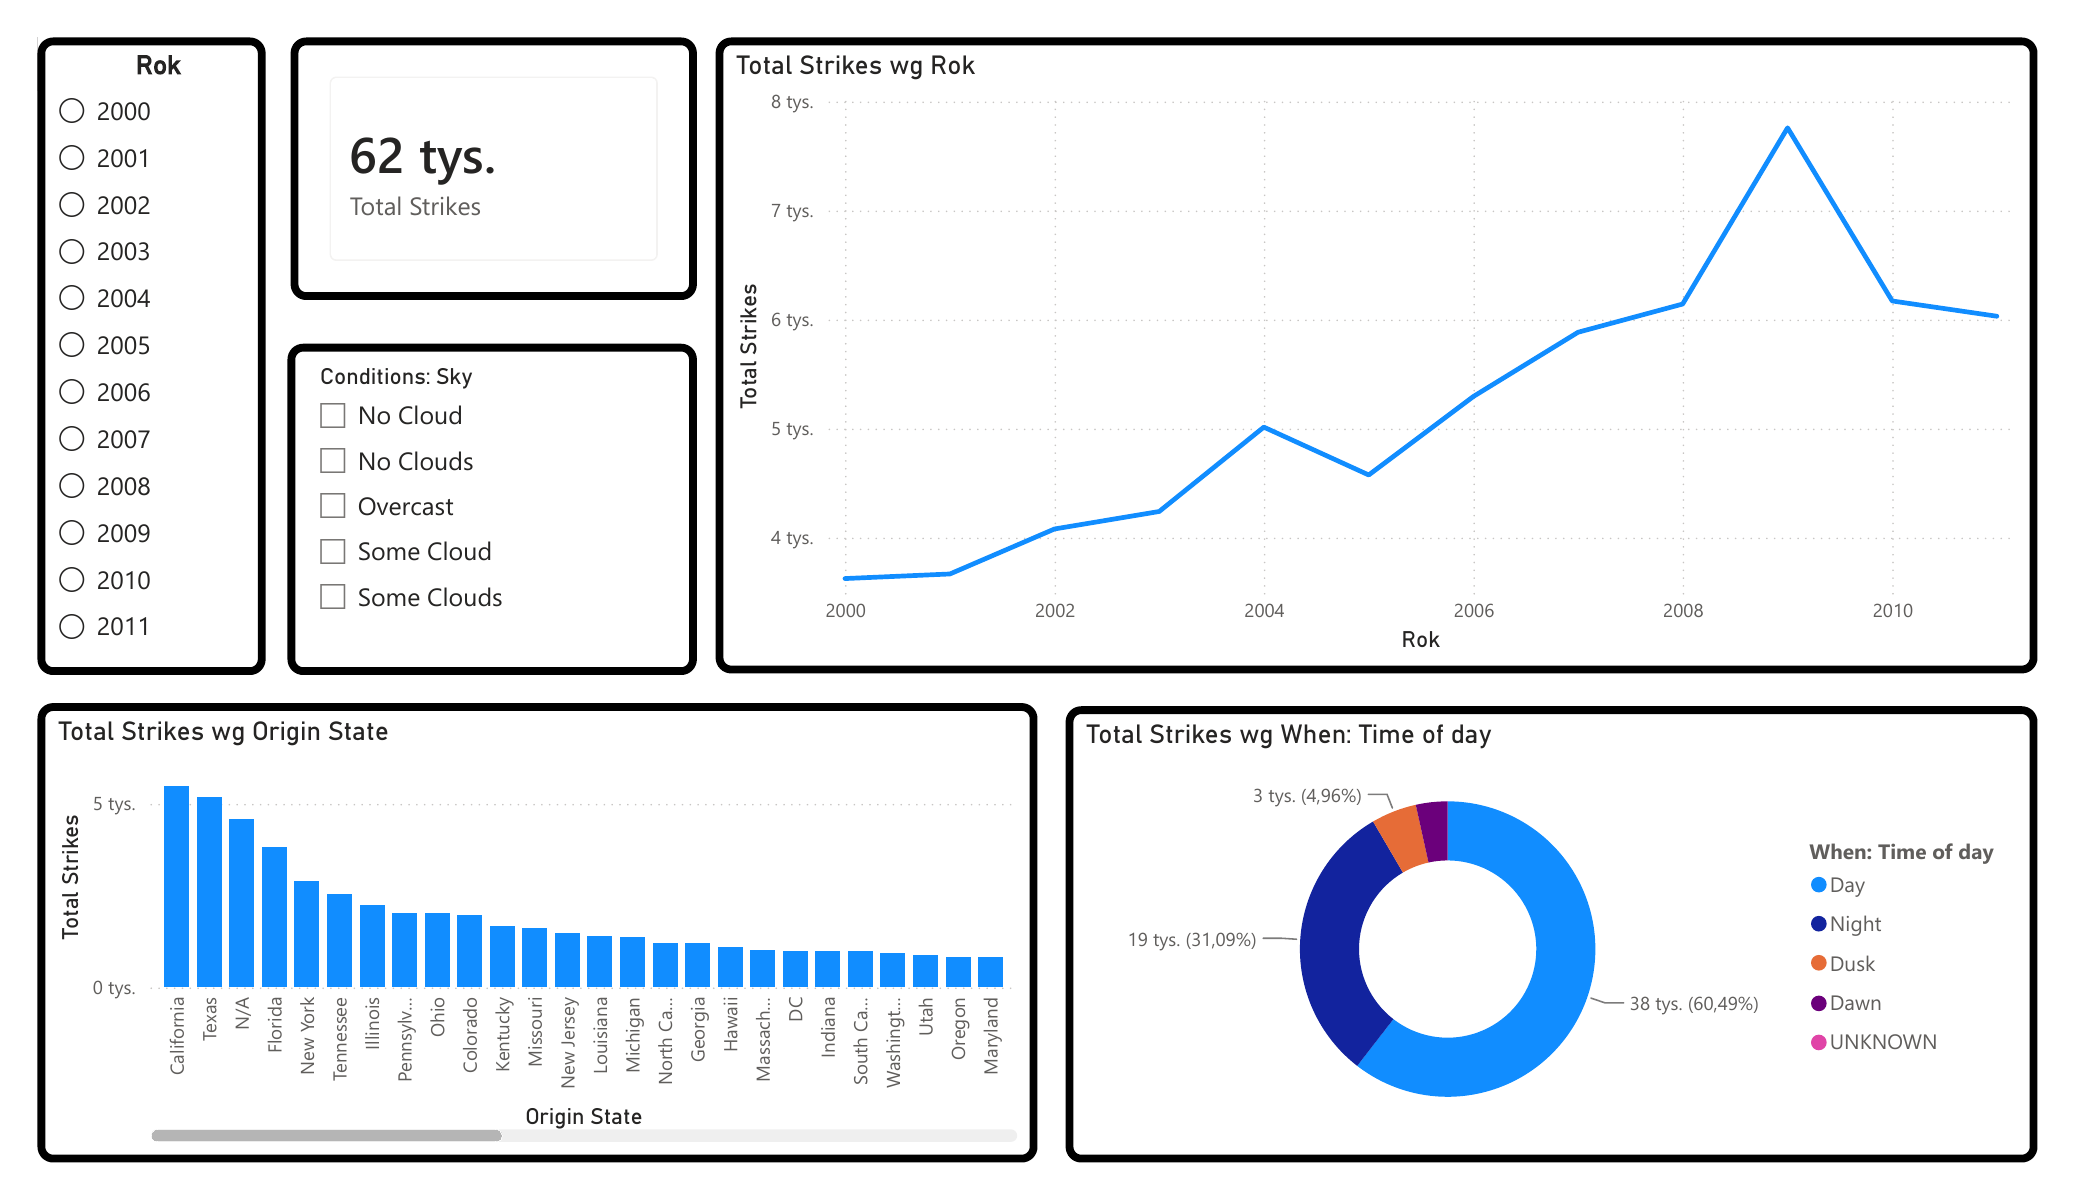

The page's visual inventory and layout, read from the dashboard file:
{"tool":"powerbi","page":{"name":"Przegląd operacyjny","canvas":[1280,720],"ordinal":0},"visuals":[{"type":"cardVisual","fields":{"Data":["FactStrikes.Total Strikes"]},"box":[162,0,260,168],"z":0},{"type":"lineChart","fields":{"Category":["DimDate.Date.Odmiana.Hierarchia dat.Rok","DimDate.Date.Odmiana.Hierarchia dat.Kwartał","DimDate.Date.Odmiana.Hierarchia dat.Miesiąc","DimDate.Date.Odmiana.Hierarchia dat.Dzień"],"Y":["FactStrikes.Total Strikes"]},"box":[434.3,0,845.7,407.1],"z":1000},{"type":"columnChart","fields":{"Category":["DimGeography.Origin State"],"Y":["FactStrikes.Total Strikes"]},"box":[0,426,640,294],"z":2000},{"type":"listSlicer","fields":{"Values":["DimDate.Rok"]},"box":[0,0,145.9,407.5],"z":3000},{"type":"donutChart","fields":{"Category":["FactStrikes.When: Time of day"],"Y":["FactStrikes.Total Strikes"]},"box":[658,428,622,292],"z":4000},{"type":"slicer","fields":{"Values":["FactStrikes.Conditions: Sky"]},"box":[160,196,262,212],"z":5000}]}

Visuals, with their boxes in screenshot pixels (x1, y1, x2, y2):
cardVisual - FactStrikes.Total Strikes: 282,38,683,297
lineChart - DimDate.Date.Odmiana.Hierarchia dat.Rok x DimDate.Date.Odmiana.Hierarchia dat.Kwartał: 702,38,2006,666
columnChart - DimGeography.Origin State x FactStrikes.Total Strikes: 32,695,1019,1148
listSlicer - DimDate.Rok: 32,38,257,666
donutChart - FactStrikes.When: Time of day x FactStrikes.Total Strikes: 1047,698,2006,1148
slicer - FactStrikes.Conditions: Sky: 279,340,683,667
